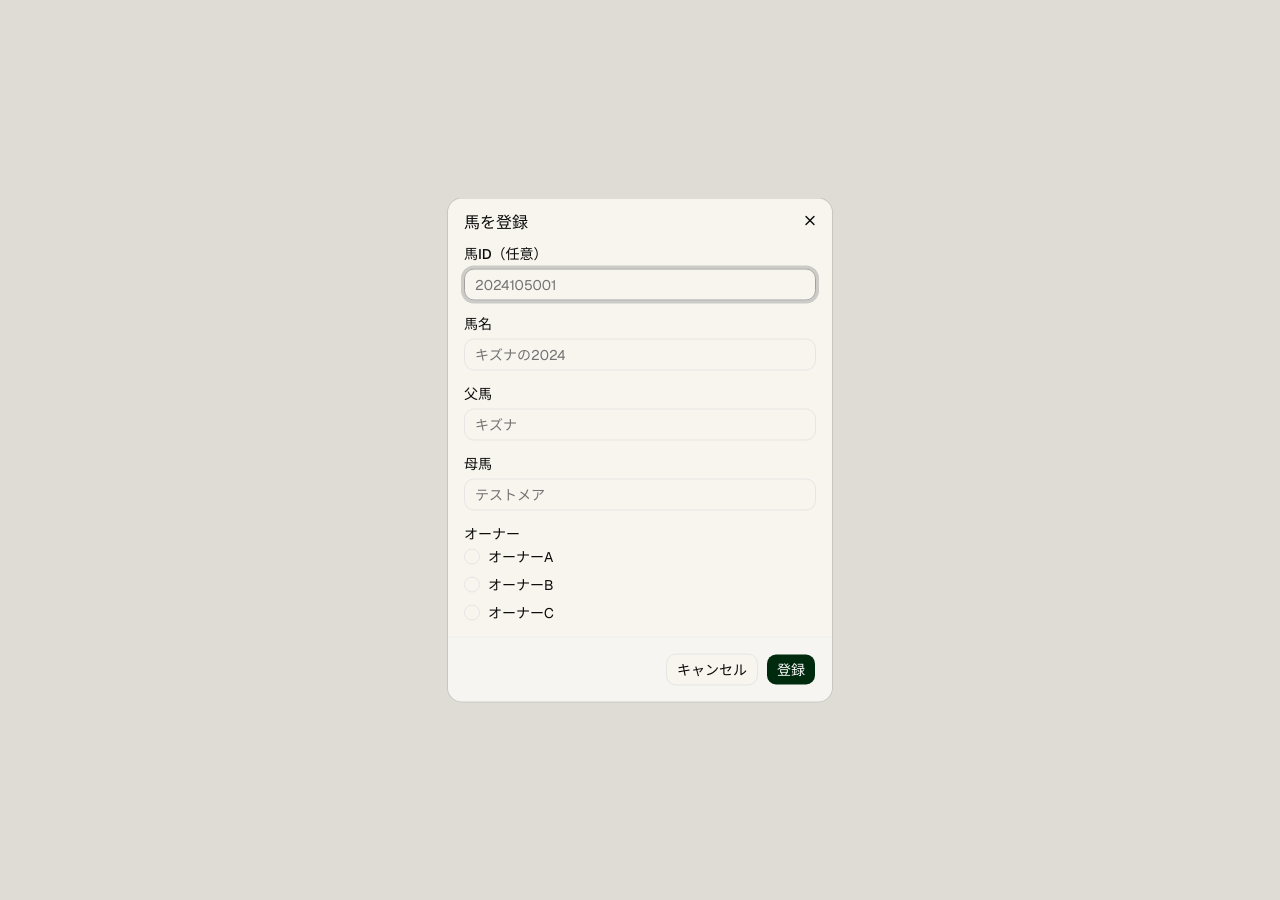
Test: HorseRegisterDialog › バリデーションエラーが表示される
// Submit without filling in required fields
Click the button "登録" at (791, 670), box 766,654 -> 816,686
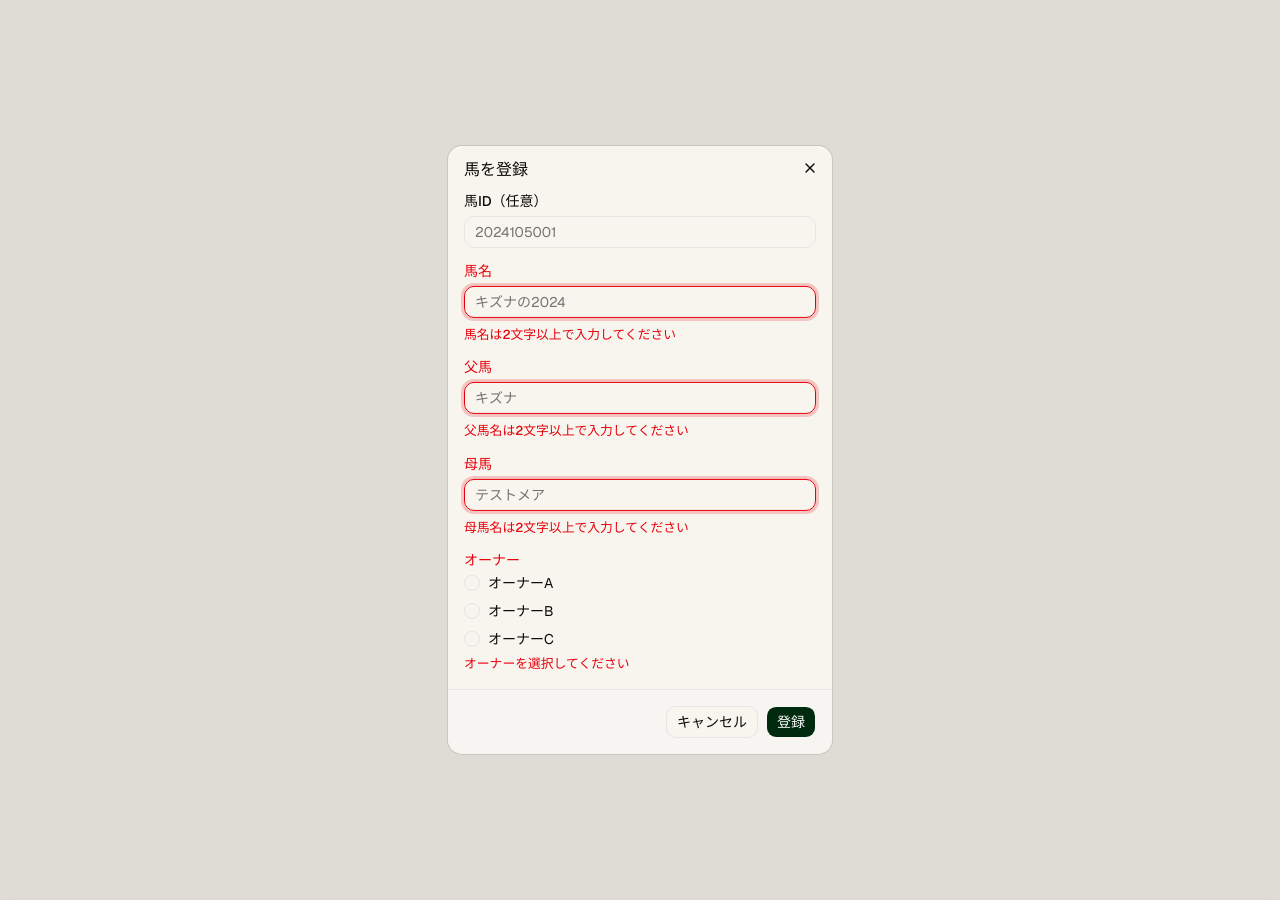
Expected: the text "馬名は2文字以上で入力してください" is shown, 464,326 -> 676,343
